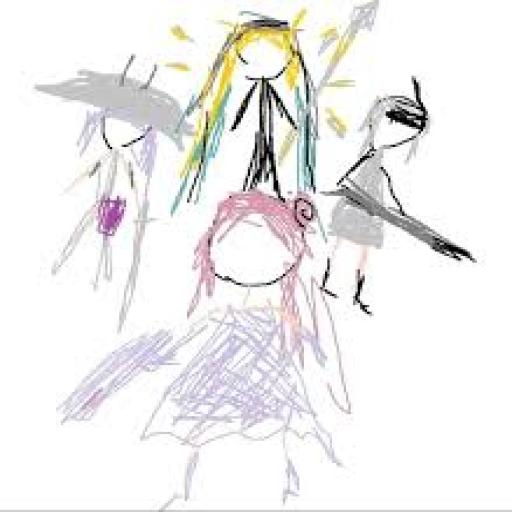person: (50, 191, 354, 510), (33, 42, 184, 330), (313, 72, 476, 320), (166, 0, 353, 191)
